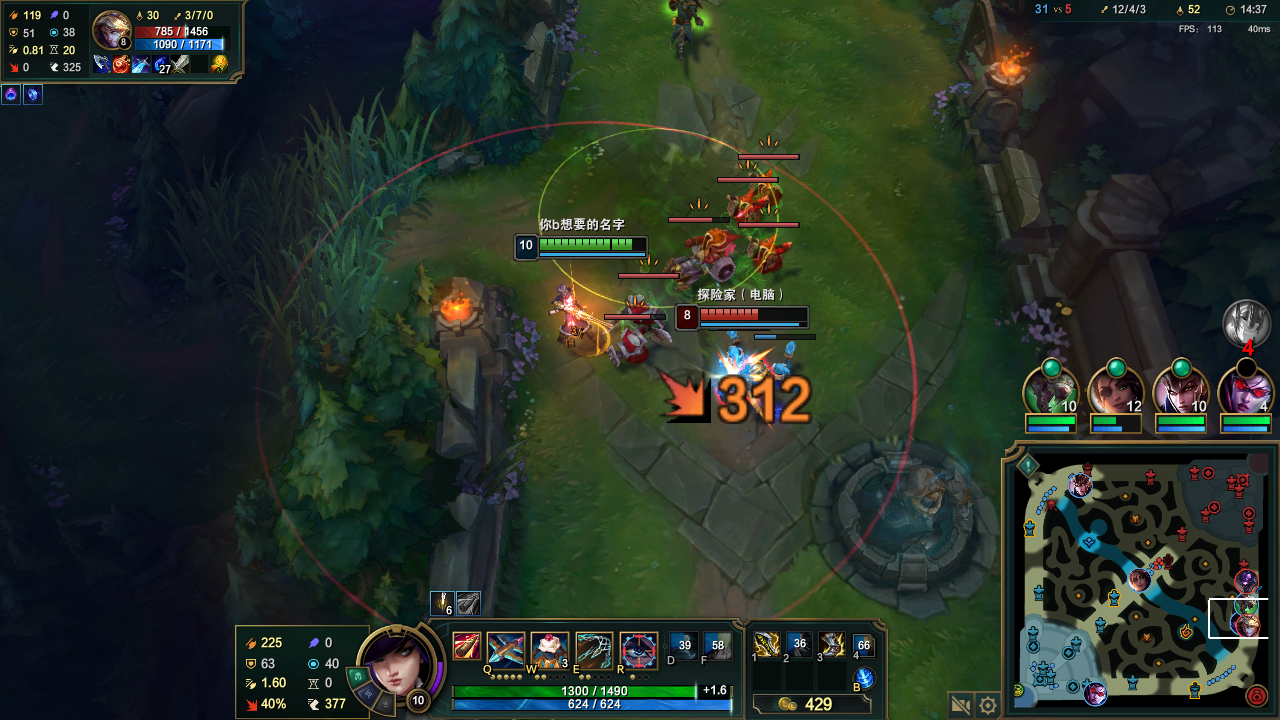DFXB: (673, 233, 730, 281), (613, 331, 648, 360), (749, 237, 782, 267), (634, 298, 663, 331), (755, 172, 784, 201), (731, 199, 762, 225)
DFYX: (701, 310, 802, 324)
WFXB: (771, 352, 793, 389)
